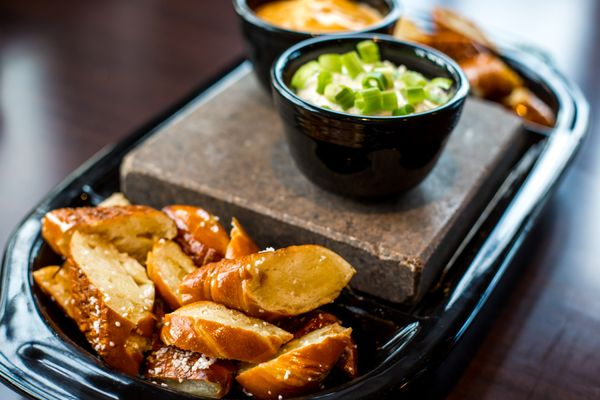sushi: (270, 32, 470, 201), (233, 0, 403, 93)
